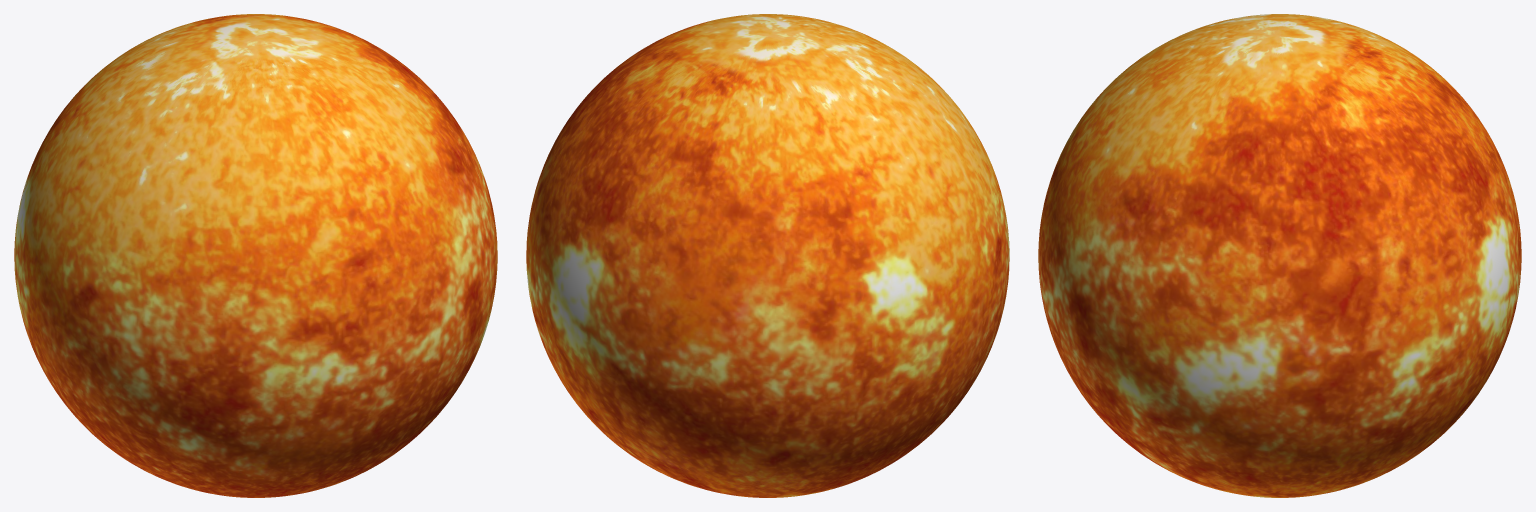
Rendered from sun_Model.fbx.
3 renders of one model, left to right at view 1: azimuth 30°, elevation 25°; view 2: azimuth 150°, elevation 25°; view 3: azimuth 270°, elevation 25°, orthographic.
Visible parts, largest first — view 1: Sphere; view 2: Sphere; view 3: Sphere.
Boxes of the visible parts, left/top/right/bottom form: Sphere: left=14, top=14, right=497, bottom=497; Sphere: left=526, top=14, right=1009, bottom=497; Sphere: left=1038, top=14, right=1521, bottom=497.
Bounding box in the file's own units: 199 × 200 × 199.
